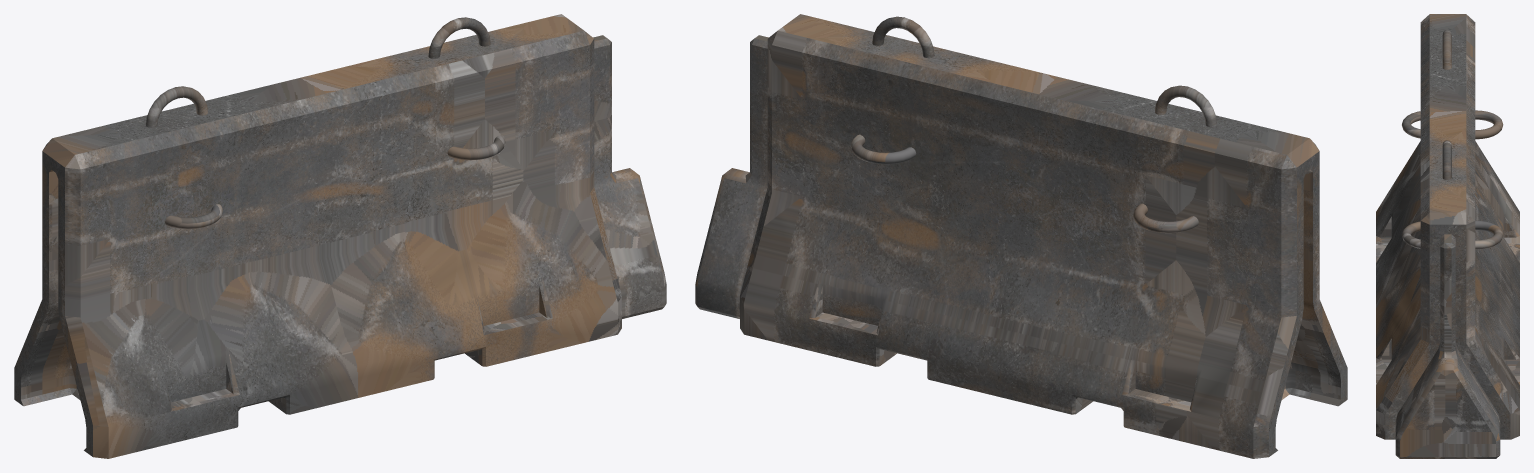
3 renders of one model, left to right at view 1: azimuth 30°, elevation 25°; view 2: azimuth 150°, elevation 25°; view 3: azimuth 270°, elevation 25°, orthographic. The views are drawn at different scales.
Visible parts, largest first — view 1: Box003; view 2: Box003; view 3: Box003.
Part boxes in pixels (x1,y1,x2,y2): Box003: (14, 14, 666, 458); Box003: (695, 14, 1347, 458); Box003: (1376, 14, 1519, 458).
Size of the model in its own units: 165 by 84.49 by 44.24.
